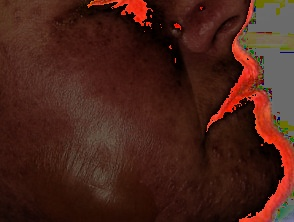SJS-TEN: (6, 112, 291, 222), (37, 0, 99, 51)
